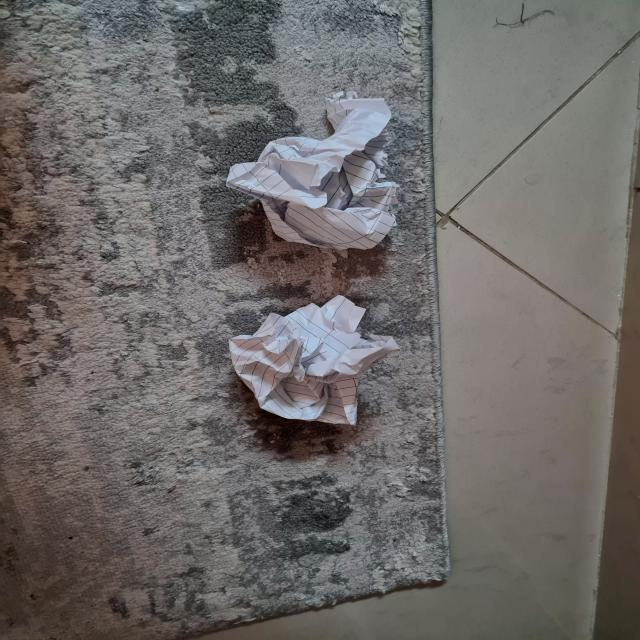Paper: (220, 280, 451, 437), (213, 80, 408, 263)
